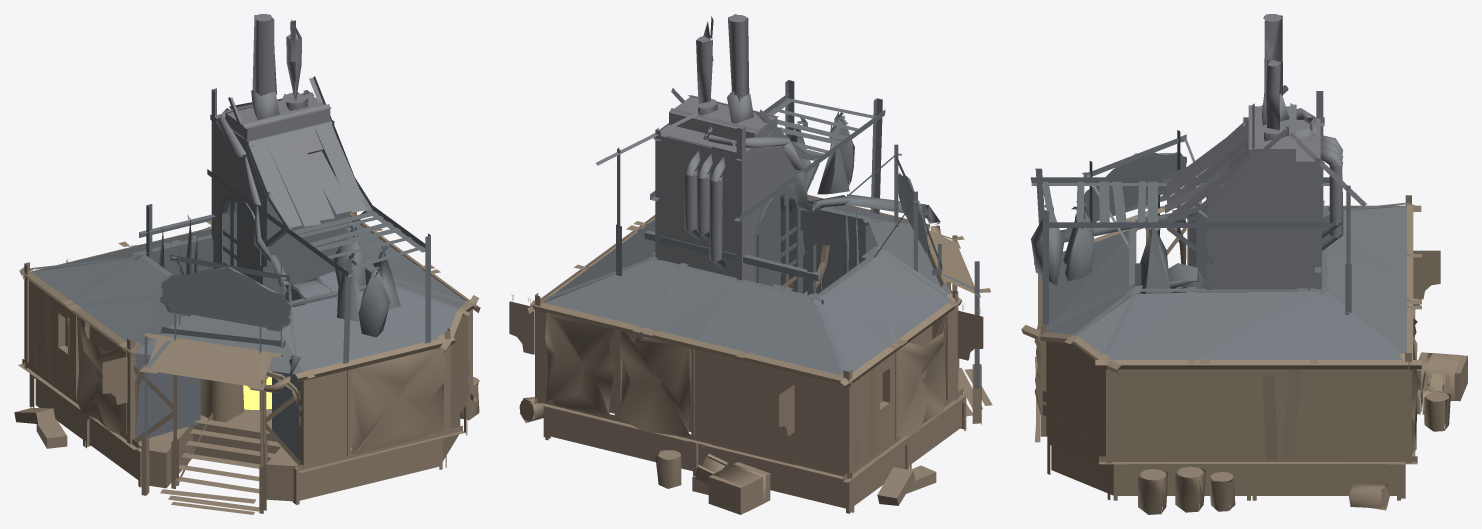
Rendered from cookhouse.glb.
The picture shows the model from 3 angles, left to right: view 1: azimuth 30°, elevation 25°; view 2: azimuth 150°, elevation 25°; view 3: azimuth 270°, elevation 25°; orthographic projection. The views are drawn at different scales.
Visible parts, largest first — view 1: cookhouse_Building; view 2: cookhouse_Building; view 3: cookhouse_Building.
Boxes of the visible parts, x1=… form: cookhouse_Building: x1=14, y1=14, x2=480, y2=514; cookhouse_Building: x1=509, y1=14, x2=992, y2=514; cookhouse_Building: x1=1021, y1=14, x2=1467, y2=514.
Bounding box in the file's own units: 11.92 × 12.24 × 11.9.
